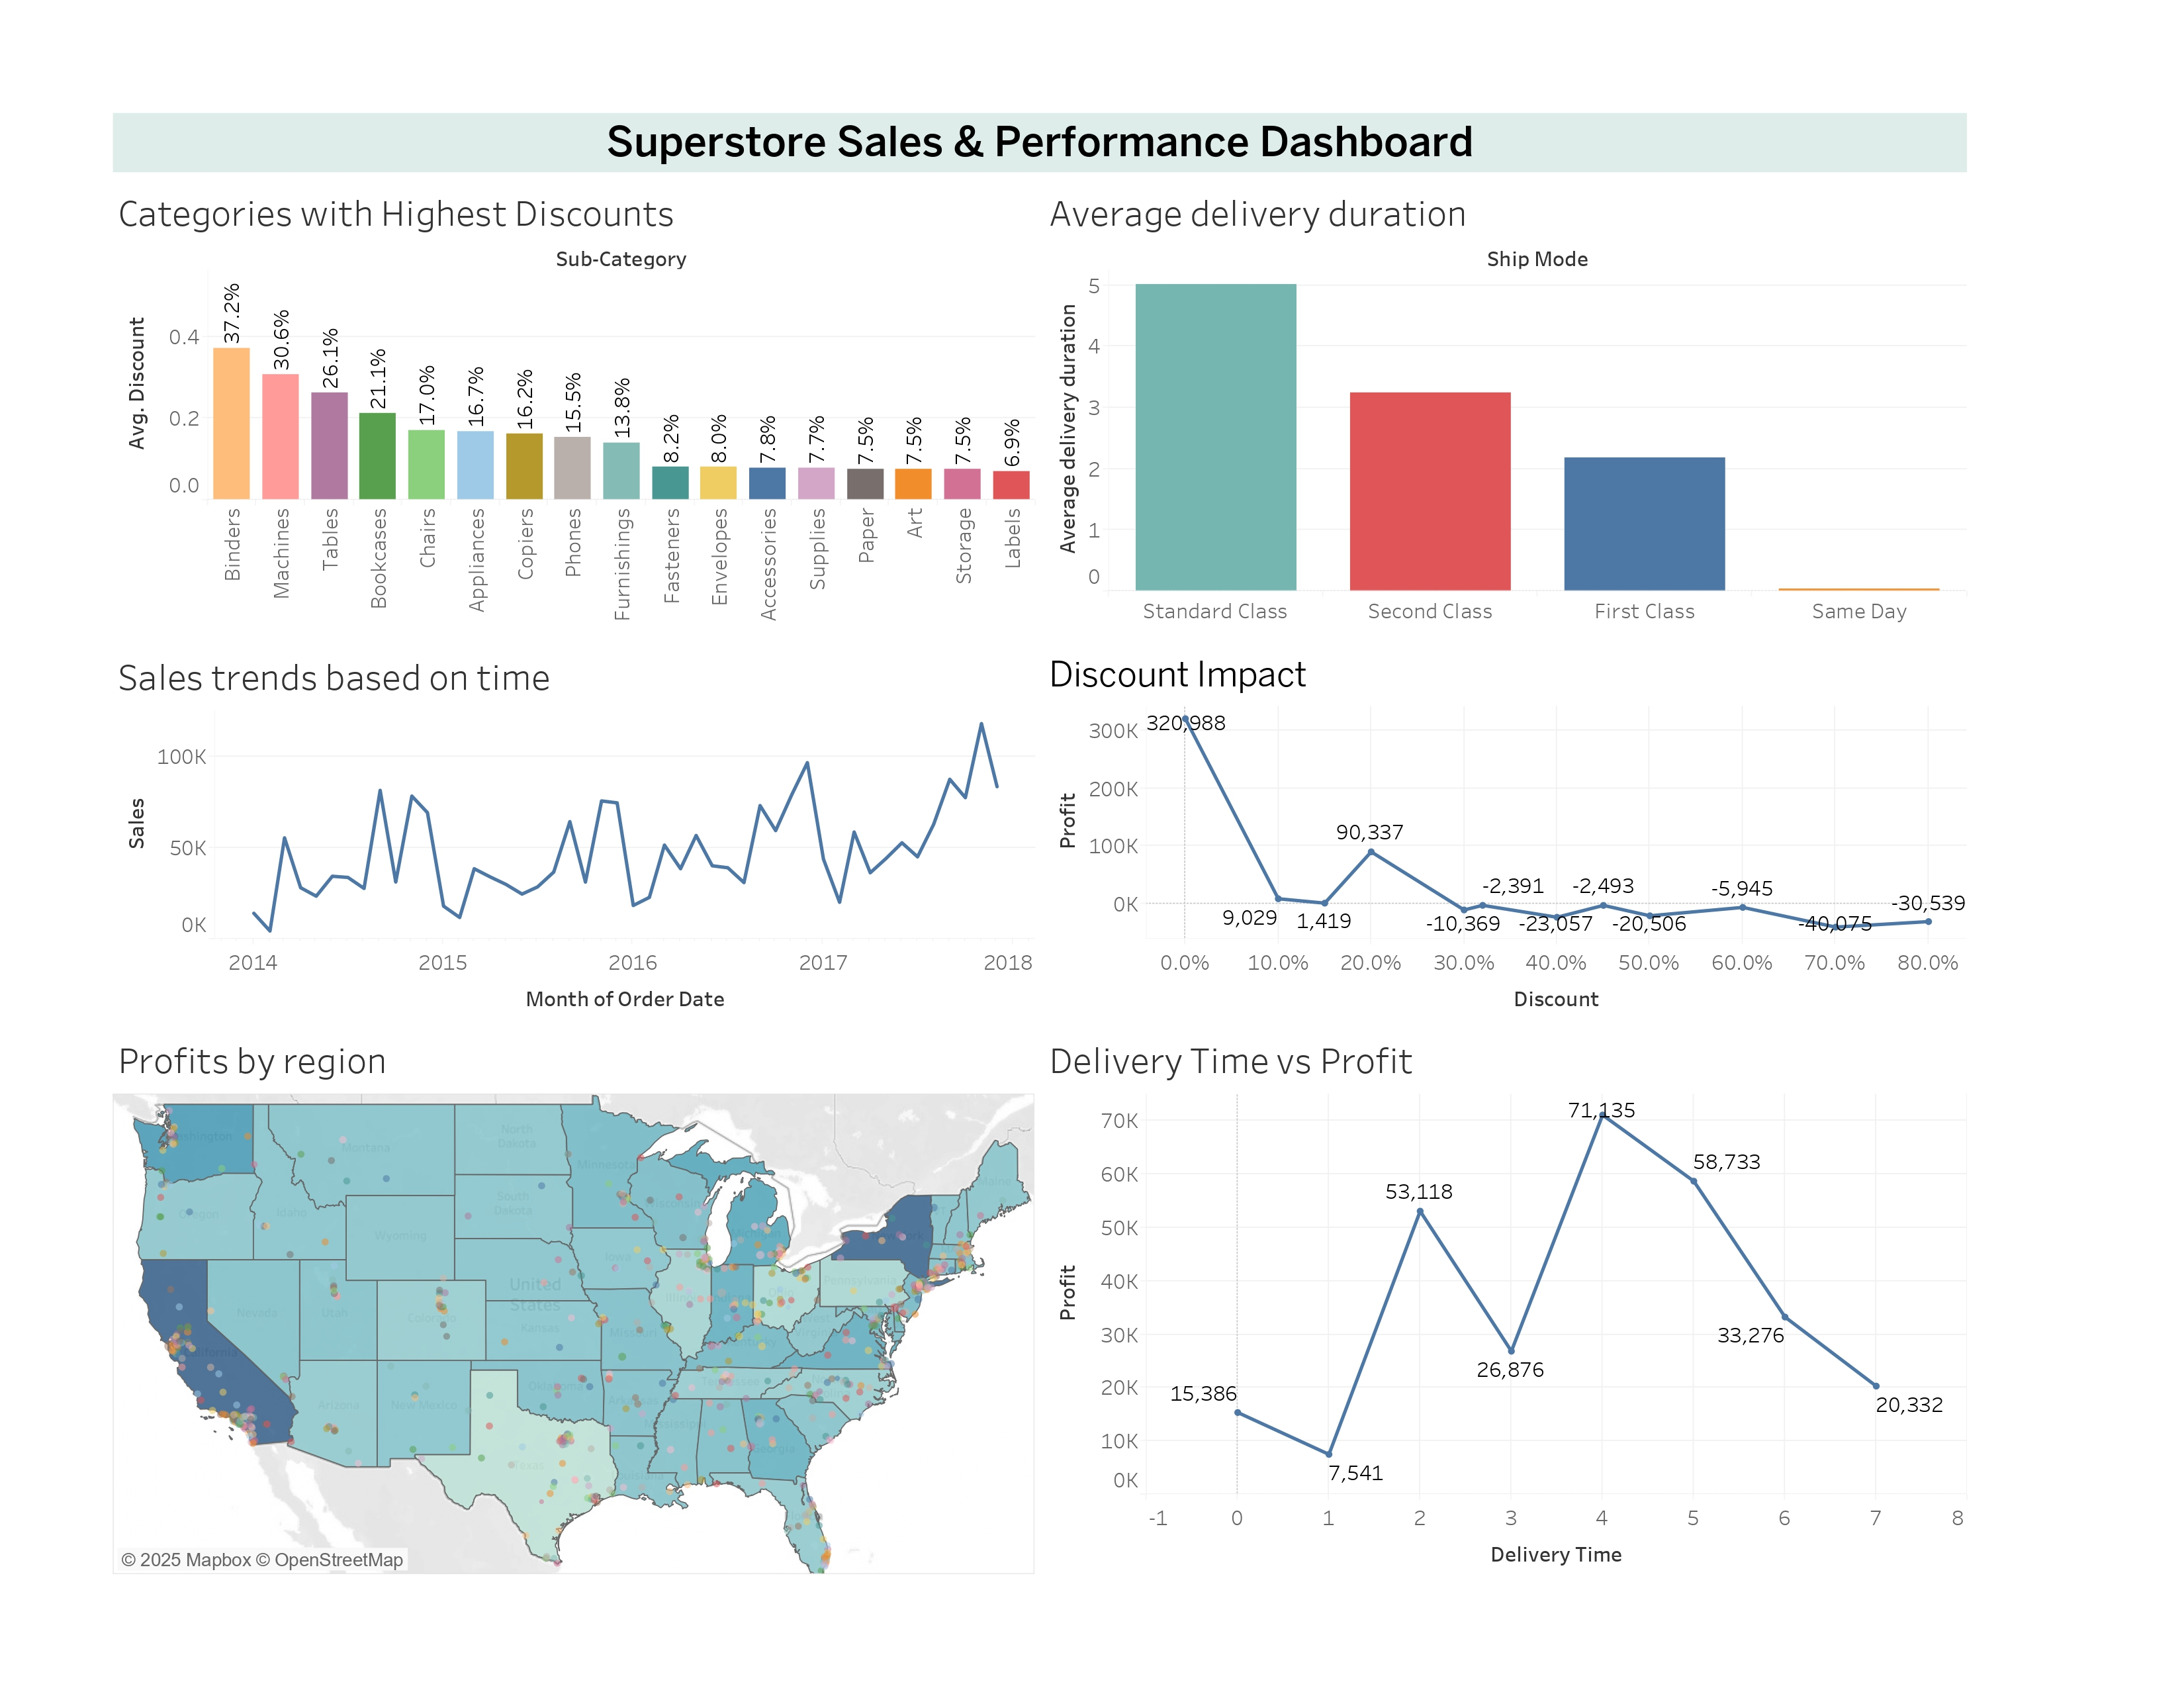

This screenshot's page, from the dashboard's own definition file:
{"tool":"tableau","page":{"name":"Superstore Sales & Performance Dashboard","canvas":[1000,1000],"units":"permille","ordinal":0},"visuals":[{"type":"title","box":[4.9,6.1,990.3,46]},{"type":"worksheet","title":"Categories with Highest Discounts","mark":"Automatic","rows":["Discount"],"cols":["Sub-Category"],"box":[4.9,52.1,495.2,311.7]},{"type":"worksheet","title":"Average delivery duration","mark":"Automatic","rows":["Calculation_1645784247929311232"],"cols":["Ship Mode"],"box":[500,52.1,495.2,311.7]},{"type":"worksheet","title":"Sales Trends Based on Time","mark":"Automatic","rows":["Sales"],"cols":["Order Date"],"box":[4.9,363.8,495.2,257]},{"type":"worksheet","title":"Discount Impact","mark":"Automatic","rows":["Profit"],"cols":["Discount"],"box":[500,363.8,495.2,257]},{"type":"worksheet","title":"map","mark":"Multipolygon","box":[4.9,620.8,495.2,373.1]},{"type":"worksheet","title":"Delivery Time vs Profit","mark":"Automatic","rows":["Profit"],"cols":["Calculation_1645784247931109377"],"box":[500,620.8,495.2,373.1]}]}

Visuals, with their boxes on the dashboard's canvas, which has no fixed pixel size, in thousandths of its width and height (x1, y1, x2, y2). These are canvas units, not pixel positions in the 2184x1688 screenshot, which may show the page scaled, cropped or inside an application window:
title: Rect(5, 6, 995, 52)
"Categories with Highest Discounts" worksheet: Rect(5, 52, 500, 364)
"Average delivery duration" worksheet: Rect(500, 52, 995, 364)
"Sales Trends Based on Time" worksheet: Rect(5, 364, 500, 621)
"Discount Impact" worksheet: Rect(500, 364, 995, 621)
"map" worksheet (Multipolygon marks): Rect(5, 621, 500, 994)
"Delivery Time vs Profit" worksheet: Rect(500, 621, 995, 994)
